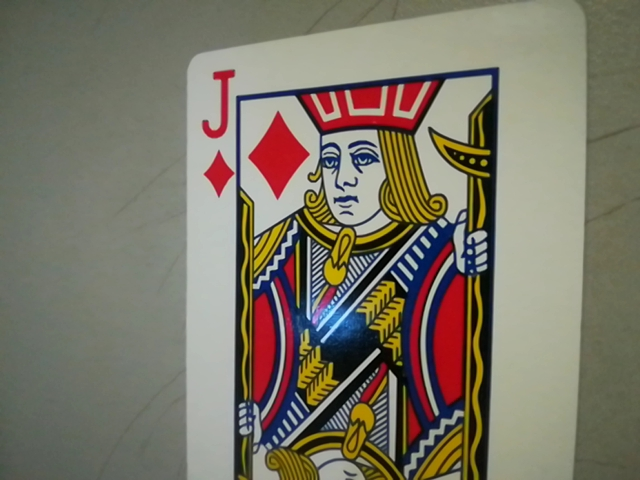fk j: (188, 61, 240, 194)
